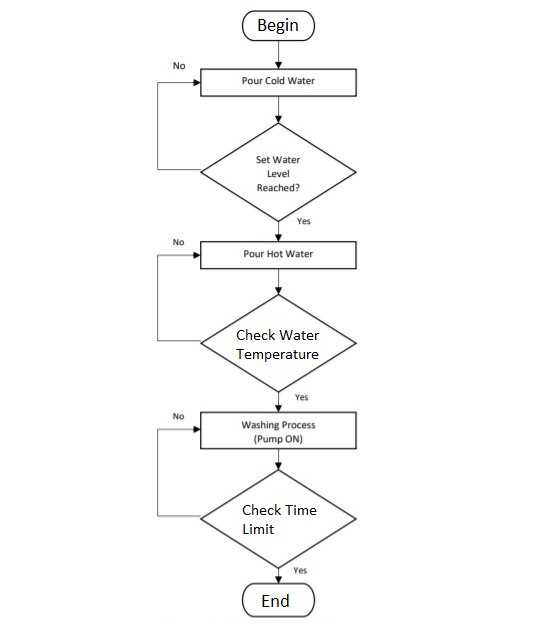arrow: (153, 424, 207, 518), (152, 77, 204, 174), (154, 249, 203, 345), (272, 37, 284, 71), (273, 93, 285, 125), (273, 266, 285, 296), (272, 217, 284, 241), (273, 390, 284, 415), (273, 445, 283, 472), (272, 565, 286, 583)
decision: (198, 291, 361, 394), (197, 467, 359, 569), (202, 121, 360, 220)
process: (197, 408, 360, 452), (199, 66, 362, 100), (198, 238, 360, 271)
terminator: (240, 580, 317, 621), (240, 7, 318, 45)
text: (233, 327, 321, 363), (238, 500, 320, 536), (239, 417, 320, 446), (253, 153, 305, 195), (240, 74, 318, 88), (256, 16, 302, 36), (240, 247, 316, 258), (259, 592, 292, 609), (295, 214, 313, 227), (170, 59, 188, 72), (294, 391, 311, 403), (170, 235, 187, 247), (170, 410, 187, 421), (293, 564, 308, 576)
